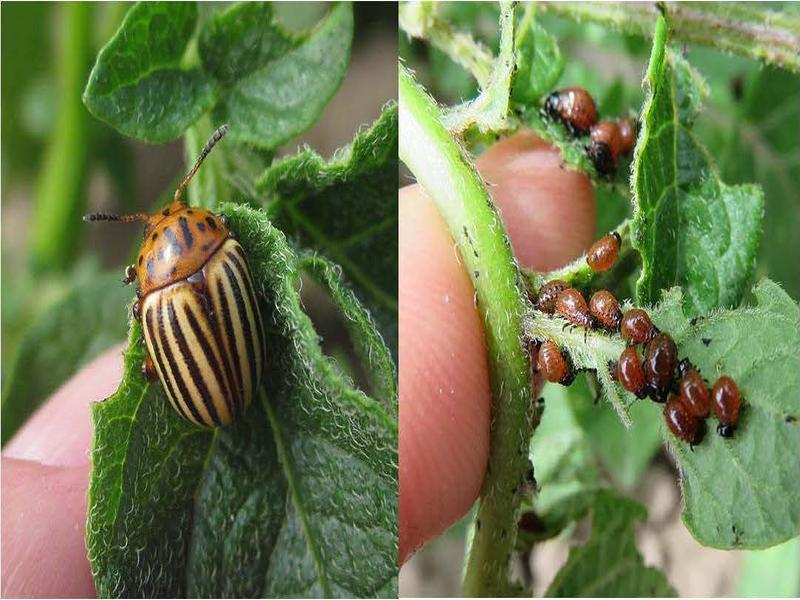hrosc: (124, 193, 279, 423)
